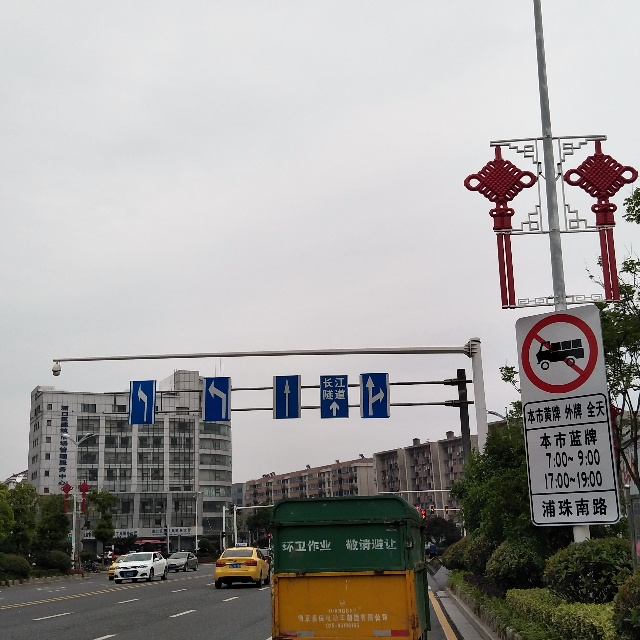left: (204, 374, 230, 422), (131, 380, 152, 424)
straight: (273, 375, 296, 422), (328, 399, 344, 417)
